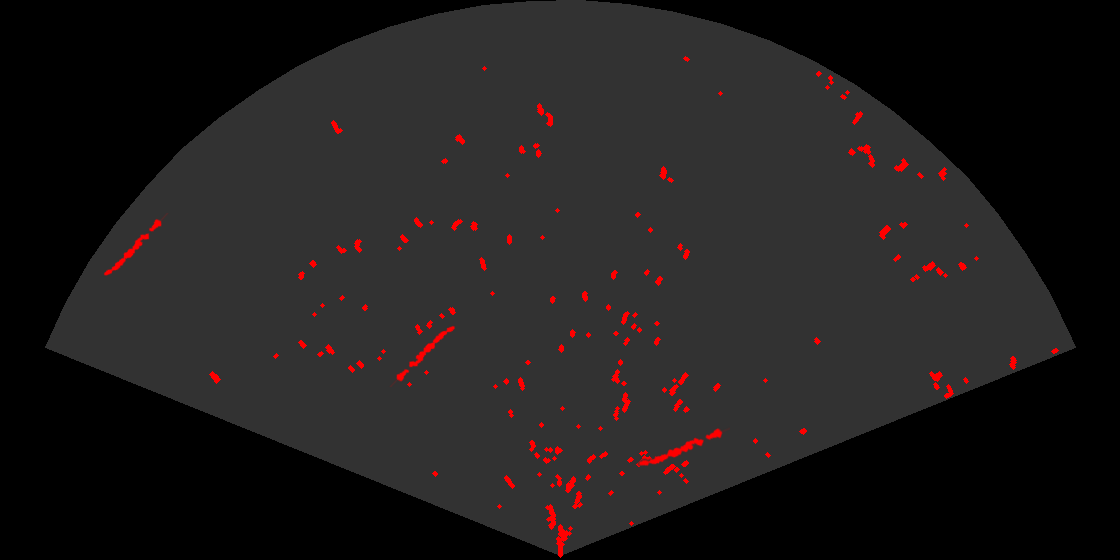chain: (102, 213, 170, 277), (388, 324, 457, 387), (637, 426, 730, 468)
